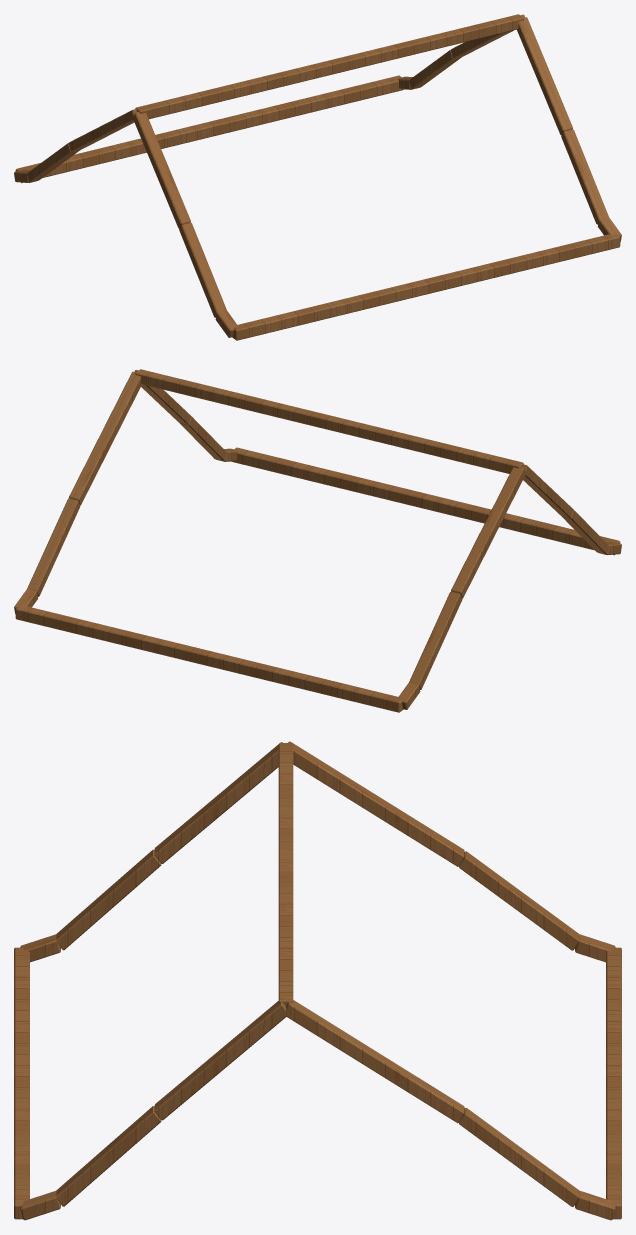
The model's file is SM_HH_V2_Roof_Trim.fbx.
3 views of the same model, one above another, from view 1: azimuth 30°, elevation 25°; view 2: azimuth 150°, elevation 25°; view 3: azimuth 270°, elevation 25° (orthographic). The views are drawn at different scales.
Visible parts, largest first — view 1: HH_V2_Roof_Trim; view 2: HH_V2_Roof_Trim; view 3: HH_V2_Roof_Trim.
Part boxes in pixels (x1,y1,x2,y2): HH_V2_Roof_Trim: [14, 14, 621, 340]; HH_V2_Roof_Trim: [14, 369, 621, 712]; HH_V2_Roof_Trim: [14, 741, 621, 1220].
Size of the model in its own units: 9.96 by 10.21 by 3.97.
